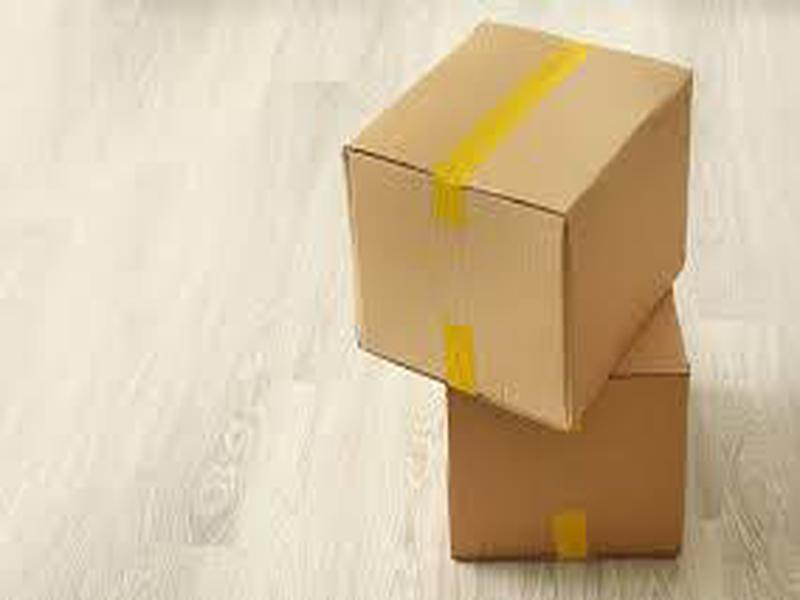package: (326, 17, 702, 434), (436, 364, 698, 573)
